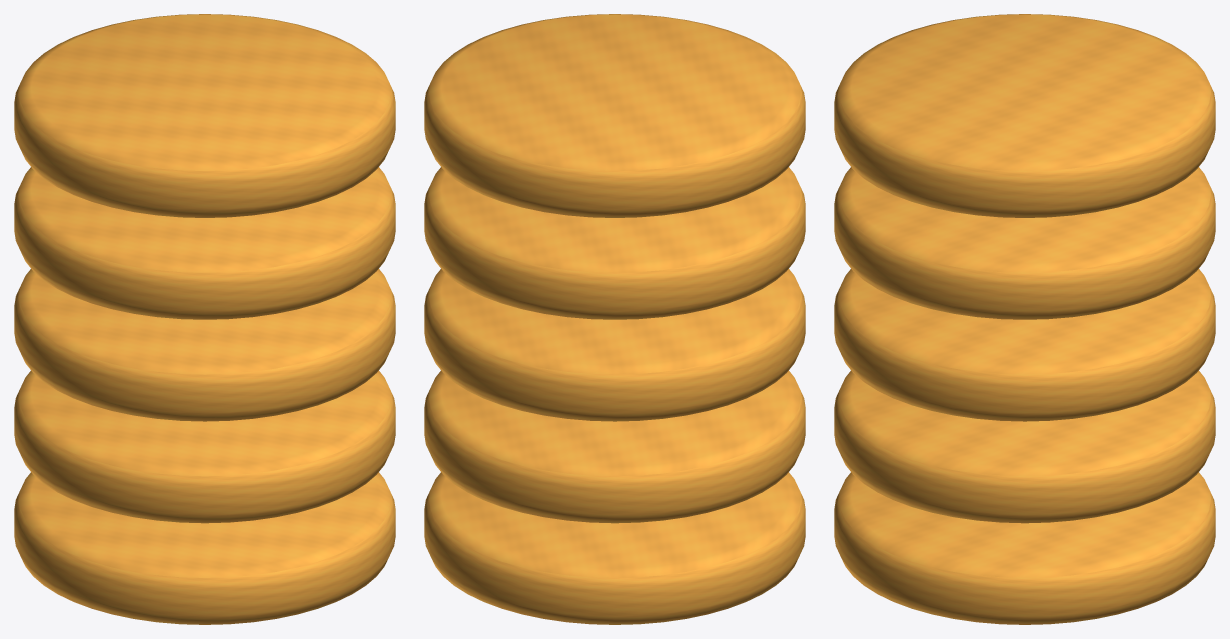
The model's file is Lighthouse_Optic.fbx.
The picture shows the model from 3 angles, left to right: view 1: azimuth 30°, elevation 25°; view 2: azimuth 150°, elevation 25°; view 3: azimuth 270°, elevation 25°; orthographic projection.
Visible parts, largest first — view 1: Lighthouse_Optic; view 2: Lighthouse_Optic; view 3: Lighthouse_Optic.
Part boxes in pixels (box(x1,y1,x2,y2)): Lighthouse_Optic: box(14, 14, 395, 624); Lighthouse_Optic: box(424, 14, 805, 624); Lighthouse_Optic: box(834, 14, 1215, 624).
Bounding box in the file's own units: 136 × 136 × 182.
